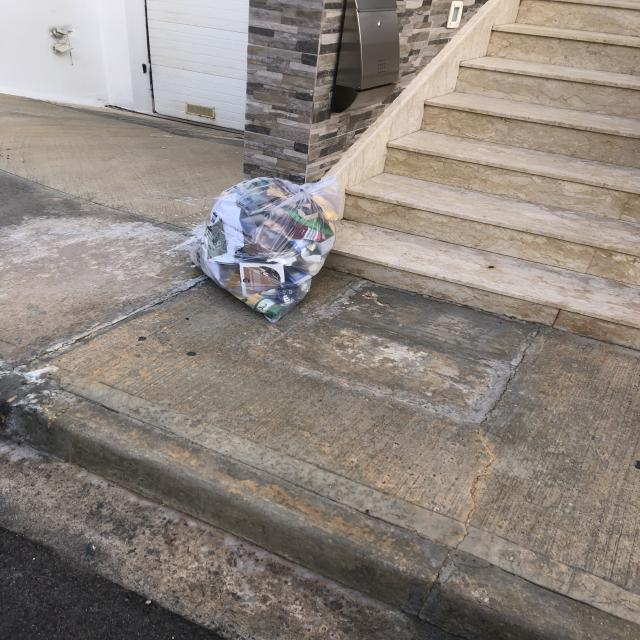Recycled Waste -Grey or Green Bag-: (192, 174, 346, 325)
